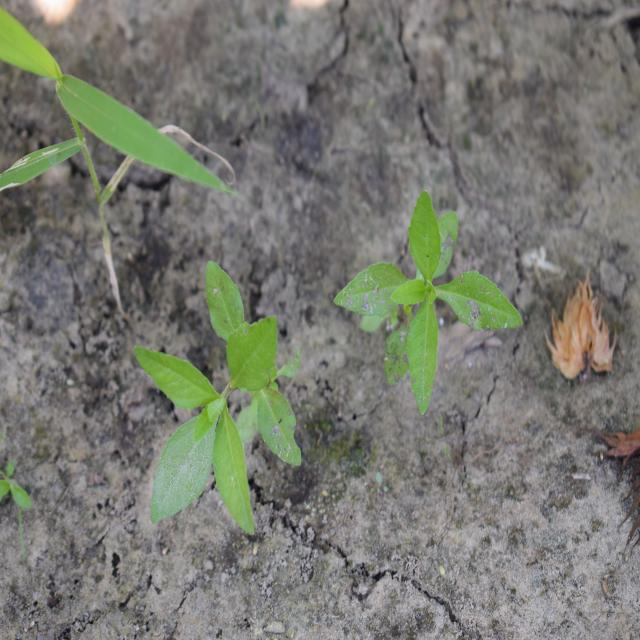Eclipta: (132, 258, 302, 538), (332, 188, 523, 418)
